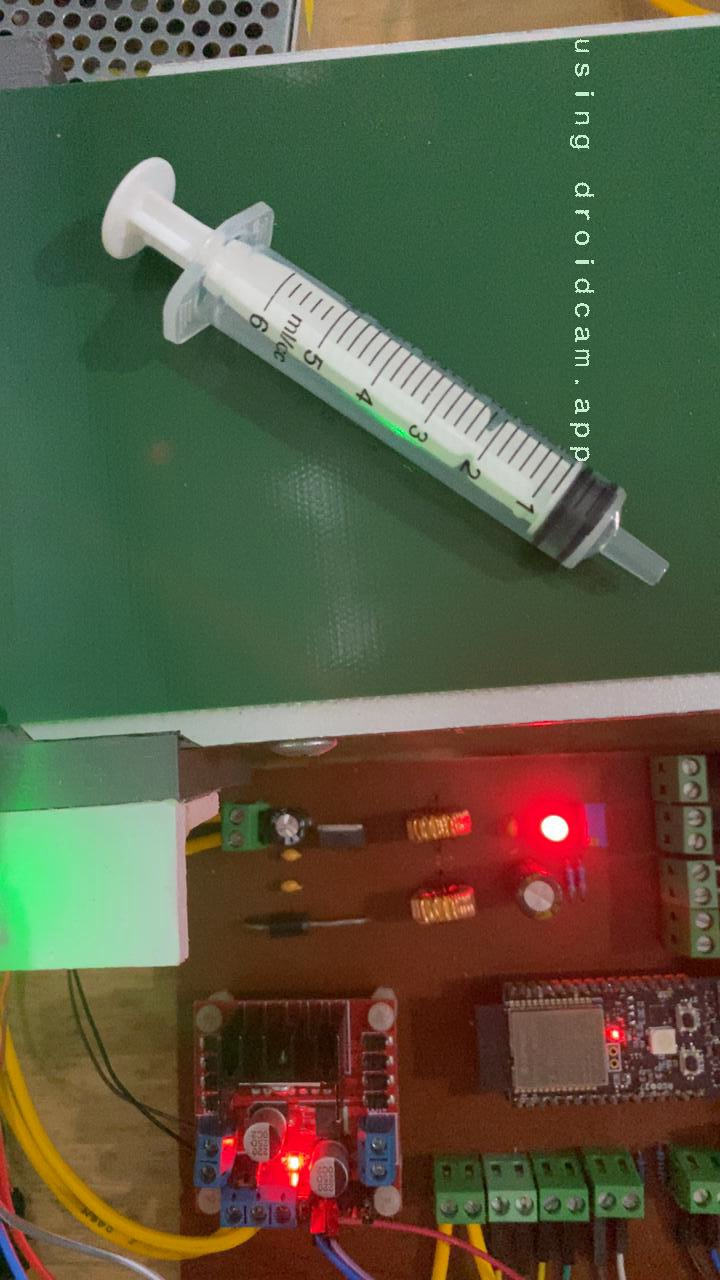syringe: (94, 150, 676, 594)
